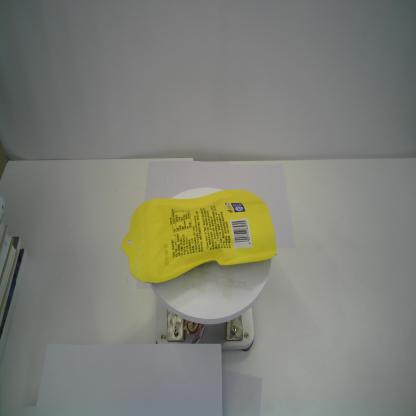Dried Fruit: (120, 189, 277, 285)
